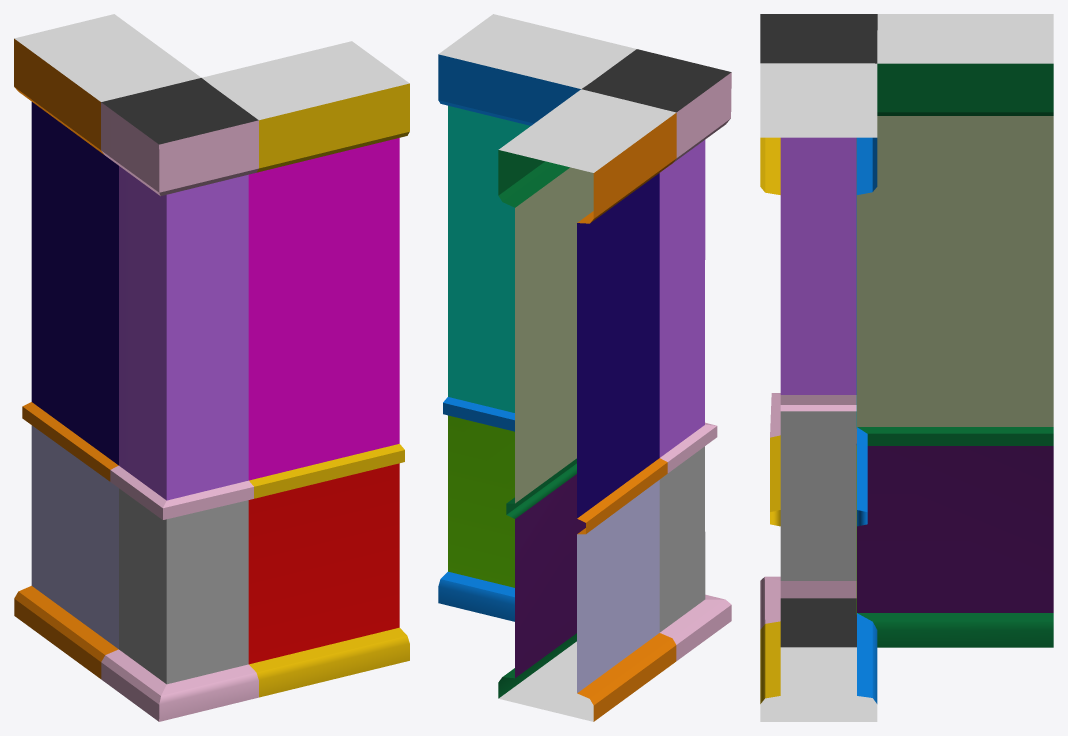
The model's file is Wall_L.fbx.
The picture shows the model from 3 angles, left to right: view 1: azimuth 30°, elevation 25°; view 2: azimuth 150°, elevation 25°; view 3: azimuth 270°, elevation 25°; orthographic projection. The views are drawn at different scales.
Parts seen in each view (by area): view 1: Wall_L; view 2: Wall_L; view 3: Wall_L.
Part boxes in pixels (x1,y1,x2,y2): Wall_L: [14, 14, 409, 721]; Wall_L: [438, 14, 731, 721]; Wall_L: [760, 14, 1053, 721].
Bounding box in the file's own units: 125 × 275 × 125.
